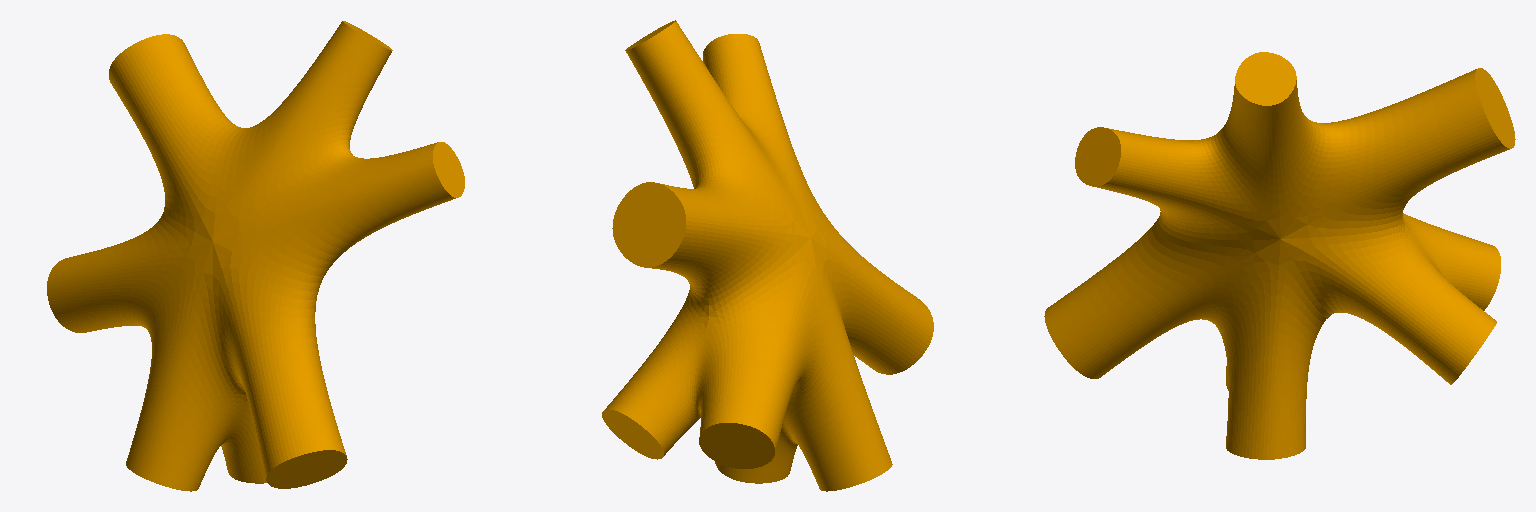
URDF robot description (object):
<robot name="object">
  <link name="object">
    <visual>
      <origin xyz="0 0 0"/>
      <geometry>
        <mesh filename="visual.obj" scale="1 1 1"/>
      </geometry>
    </visual>
    <collision>
      <origin xyz="0 0 0"/>
      <geometry>
        <mesh filename="visual.obj" scale="1 1 1"/>
      </geometry>
    </collision>
    <inertial>
      <mass value="0.05"/>
      <inertia ixx="0.00012928310177700832" iyy="8.51105556779014e-05" izz="8.033987385176445e-05" ixy="5.183182161621115e-06" ixz="-2.1756727999037447e-05" iyz="-4.040023696448331e-06"/>
    </inertial>
  </link>
</robot>

--- Render facts (derived) ---
3 views of the same robot in one strip: view 1: azimuth 30°, elevation 25°; view 2: azimuth 150°, elevation 25°; view 3: azimuth 270°, elevation 25° (orthographic).
Model object with 1 links and 0 joints (none), rooted at object, posed all joints at 0.
Links seen in each view (by area): view 1: object; view 2: object; view 3: object.
Link boxes in pixels (bbox=[...]): object: bbox=[47, 21, 464, 491]; object: bbox=[602, 20, 933, 491]; object: bbox=[1044, 52, 1515, 459].
Bounding box of the posed robot: 0.1115 × 0.1704 × 0.1758 m (x, y, z).
Meshes: 1 distinct files referenced, 1 mesh visuals loaded (1 OBJ).
